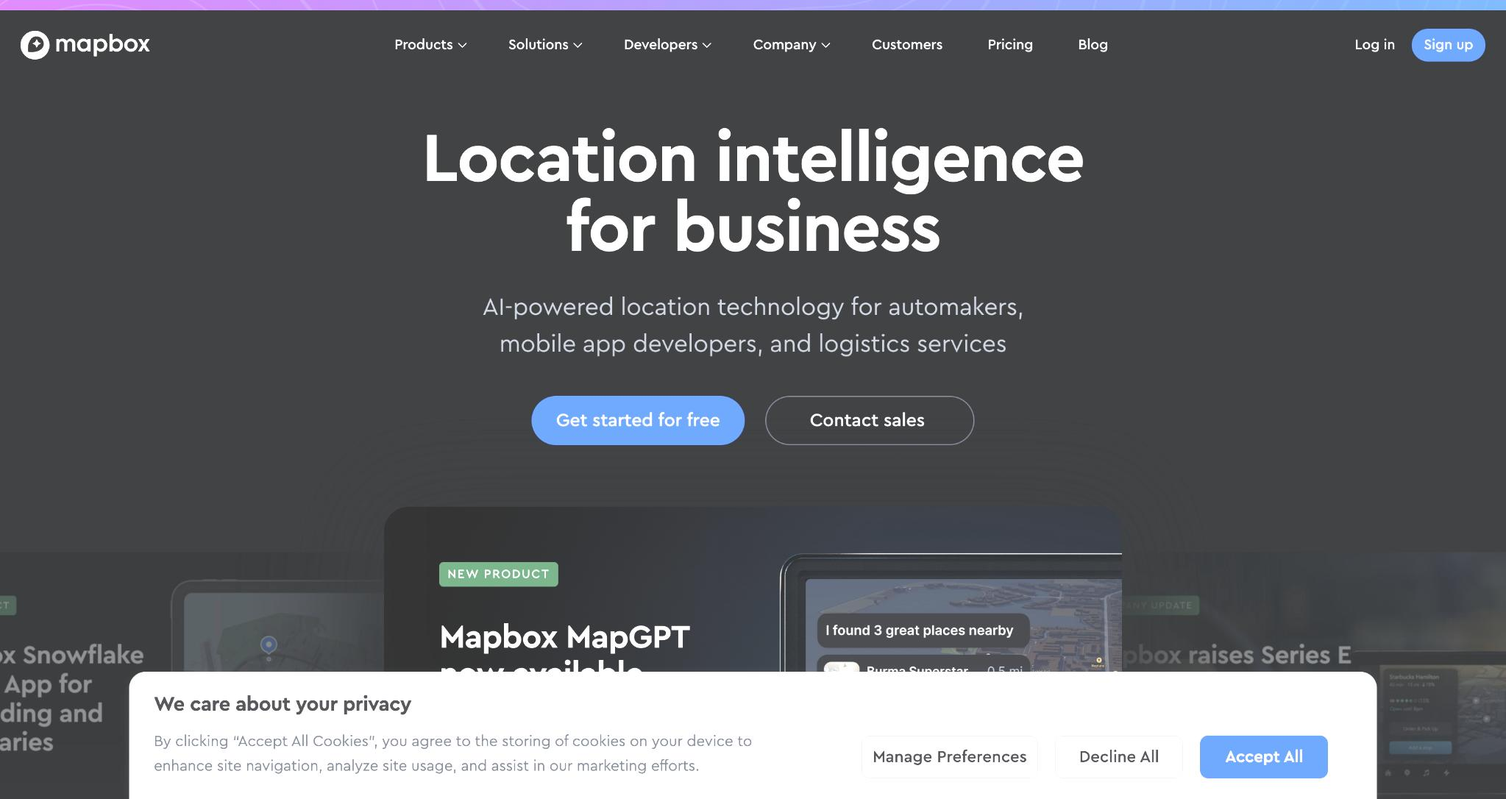webelement: (384, 506, 1122, 799), (412, 163, 838, 526), (1045, 550, 1506, 798), (153, 691, 1352, 777), (373, 10, 1132, 79), (445, 288, 1060, 362), (912, 163, 1077, 390), (153, 728, 763, 777), (804, 135, 901, 381), (745, 103, 841, 349), (209, 193, 498, 269), (209, 515, 498, 590), (512, 175, 717, 267), (538, 254, 785, 330), (538, 330, 785, 406), (538, 406, 785, 482), (538, 482, 785, 558), (209, 131, 498, 192), (209, 269, 498, 330), (209, 331, 498, 392), (209, 392, 498, 453), (209, 454, 498, 515), (778, 462, 964, 554), (827, 131, 1047, 207), (827, 207, 1047, 283), (827, 283, 1047, 359), (827, 359, 1047, 435), (827, 488, 1047, 564), (1088, 131, 1295, 207), (1088, 207, 1295, 283), (1088, 513, 1295, 589), (411, 298, 616, 374), (633, 298, 838, 374), (411, 374, 616, 450), (633, 374, 838, 450), (512, 267, 717, 343), (512, 344, 717, 420), (411, 223, 616, 298), (633, 223, 838, 298), (411, 451, 616, 526), (633, 451, 838, 526), (538, 131, 785, 192), (538, 193, 785, 254), (1026, 175, 1221, 251), (1026, 251, 1221, 327), (778, 175, 964, 251), (778, 311, 964, 387), (1088, 284, 1295, 345), (1088, 398, 1295, 459), (912, 239, 1077, 315), (912, 315, 1077, 391), (912, 163, 1076, 239), (411, 163, 616, 222), (633, 163, 838, 222), (778, 252, 964, 310), (531, 395, 743, 444), (764, 395, 973, 444), (245, 496, 409, 555), (599, 73, 906, 103), (851, 11, 966, 77), (861, 734, 1037, 777), (245, 175, 409, 216), (245, 299, 409, 340), (245, 217, 409, 257), (245, 258, 409, 298), (245, 340, 409, 380), (967, 11, 1057, 77), (1054, 734, 1182, 777), (1200, 734, 1328, 777), (1058, 11, 1132, 77), (245, 389, 409, 413), (20, 30, 151, 58), (512, 434, 608, 471), (621, 434, 713, 471), (804, 136, 901, 166), (745, 103, 841, 133), (745, 195, 834, 226), (804, 228, 894, 258), (745, 164, 831, 195), (804, 198, 891, 228), (1412, 28, 1485, 60), (745, 256, 816, 287), (804, 290, 876, 320), (804, 259, 870, 289), (745, 226, 810, 256), (745, 318, 798, 348), (804, 351, 857, 381), (951, 113, 1046, 129), (745, 134, 795, 164), (804, 167, 854, 197), (451, 113, 540, 129), (1355, 29, 1395, 59), (804, 320, 838, 351), (745, 287, 778, 317), (343, 389, 353, 413)
